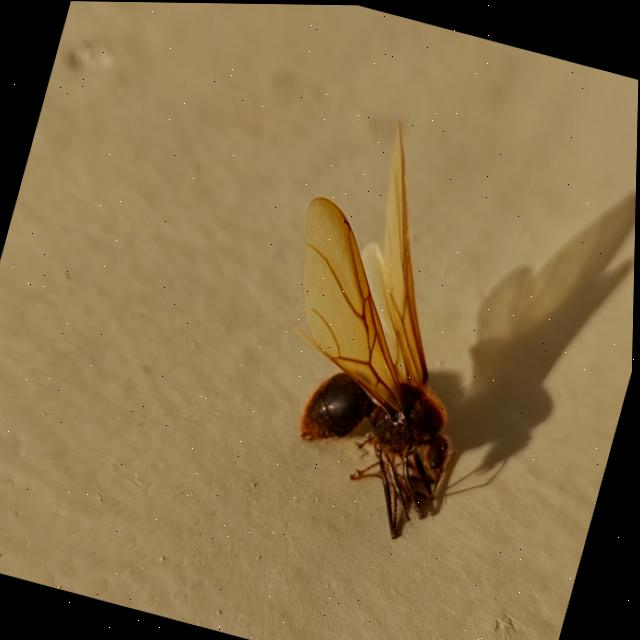Dead-Male-Alate: (231, 101, 537, 549)
